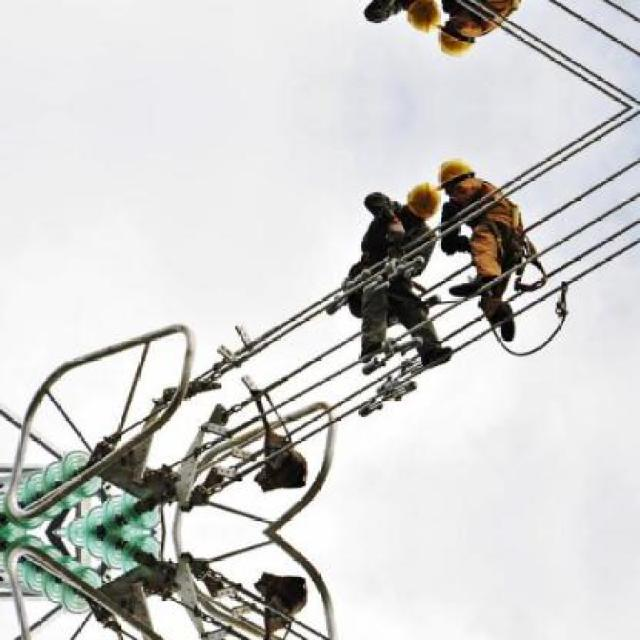helmet: (432, 149, 482, 202), (432, 11, 482, 63), (403, 178, 443, 222), (403, 0, 444, 35)
